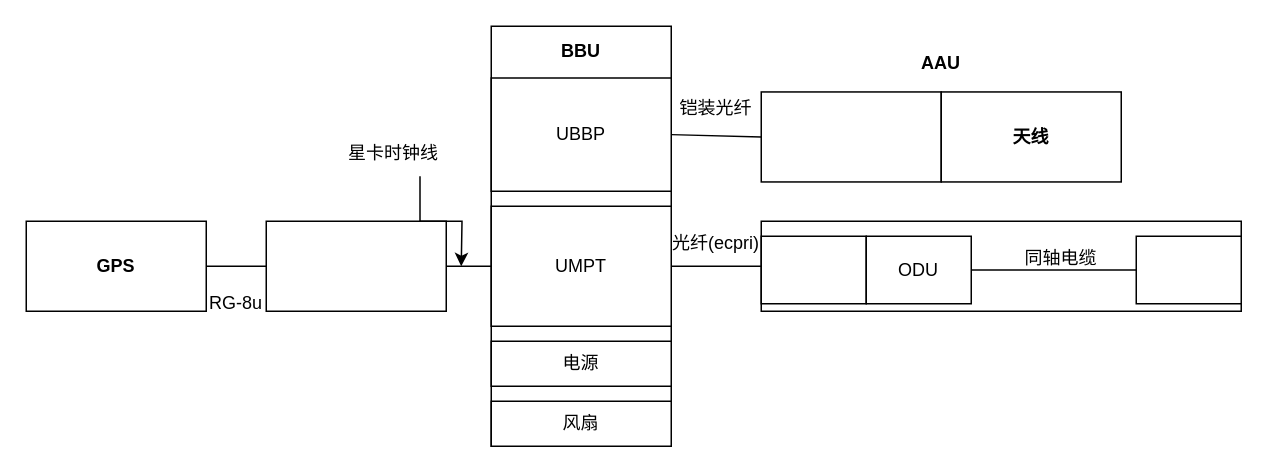
Some shapes in this 1268 by 473 pixel diagram are drawn without their labels. The shapes that lost their labels are listed below. From the top down, each one's centre as x and y in pixels, then its label:
At pixel 850 136: "RRU".
At pixel 355 265: "SPD(电源保护器)".
At pixel 813 269: "IDU".
At pixel 1188 269: "微波天线".
